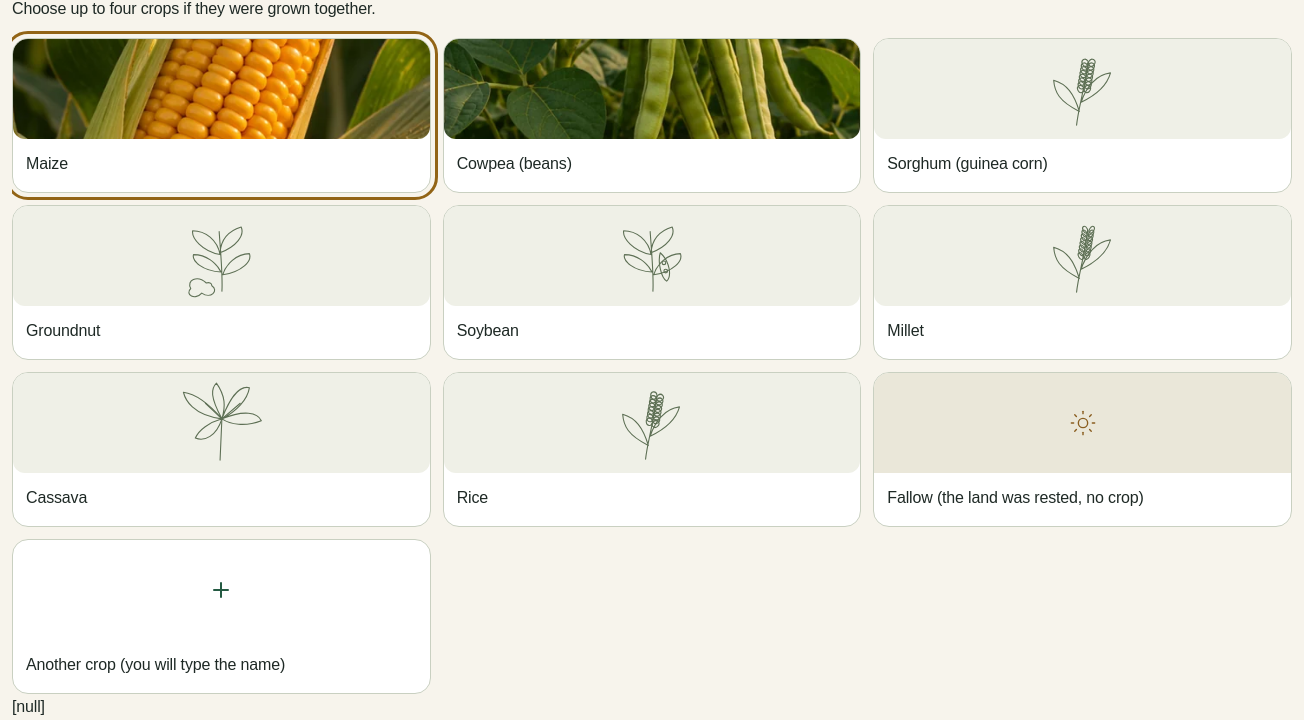
makes fallow exclusive, resets an empty selection to unanswered, and rejects duplicate custom crops
The image size is (1304, 720).
Earlier steps of the test are not shown.
Later steps or results of the test are not shown.
(page scrolled)
expect the text named "Saved answers" reads "[null]": met, box [12, 698, 45, 715]
Step 1. Click the button "Maize" → (221,115), box [12, 38, 431, 193]
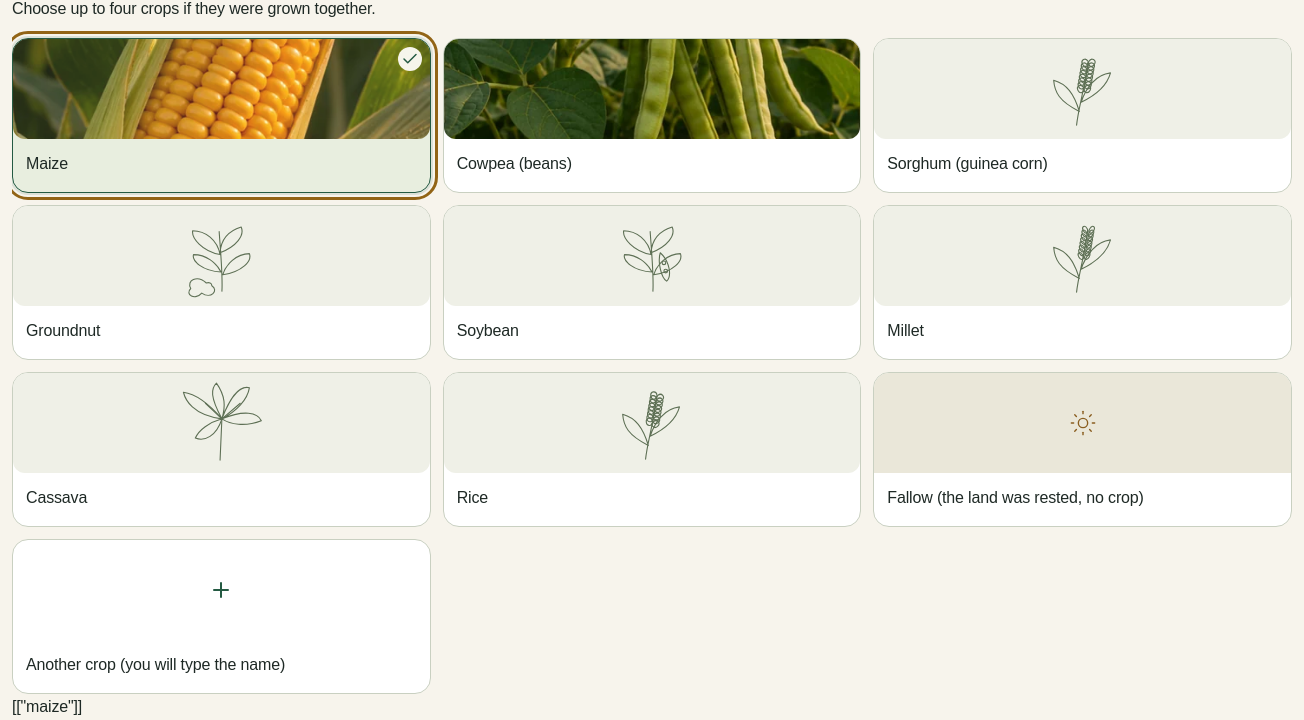
Step 2. Click the button "Another crop (you will type the name)" → (221,616), box [12, 539, 431, 694]
(page scrolled)
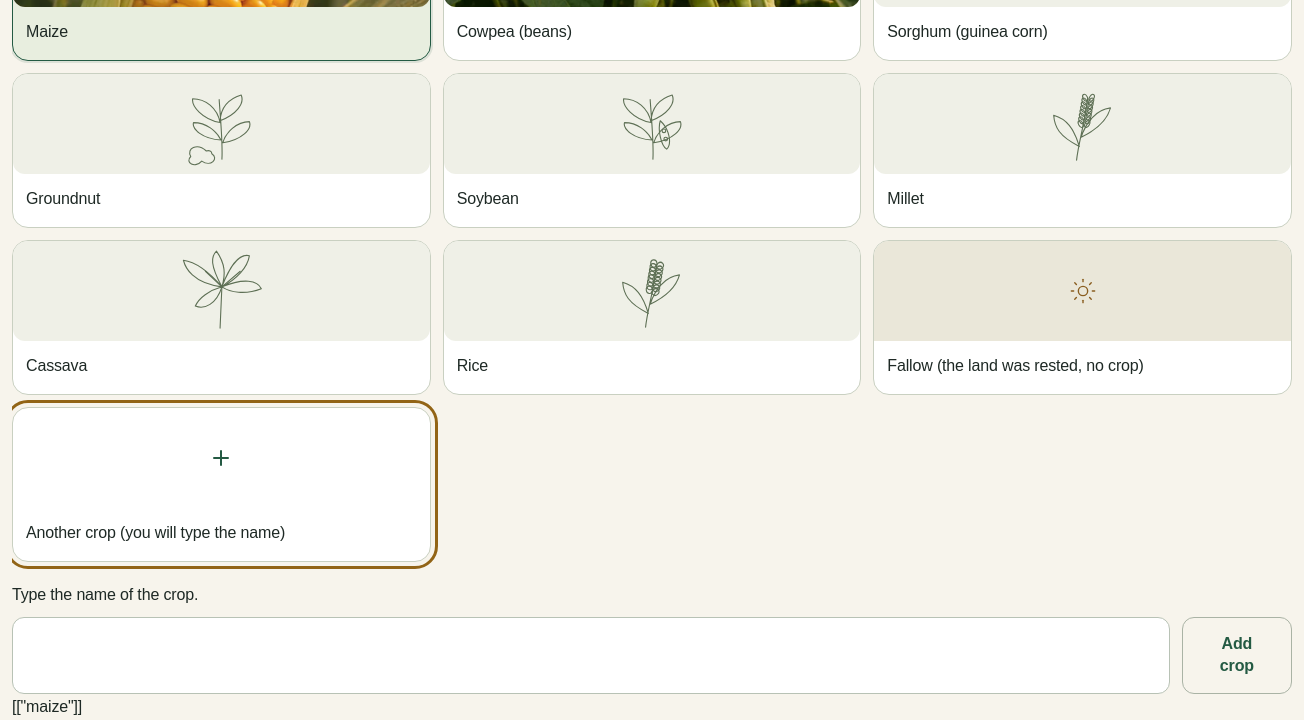
Step 3. Type "MAIZE" into the field labelled "Type the name of the crop." → (591,656), box [12, 617, 1170, 694]
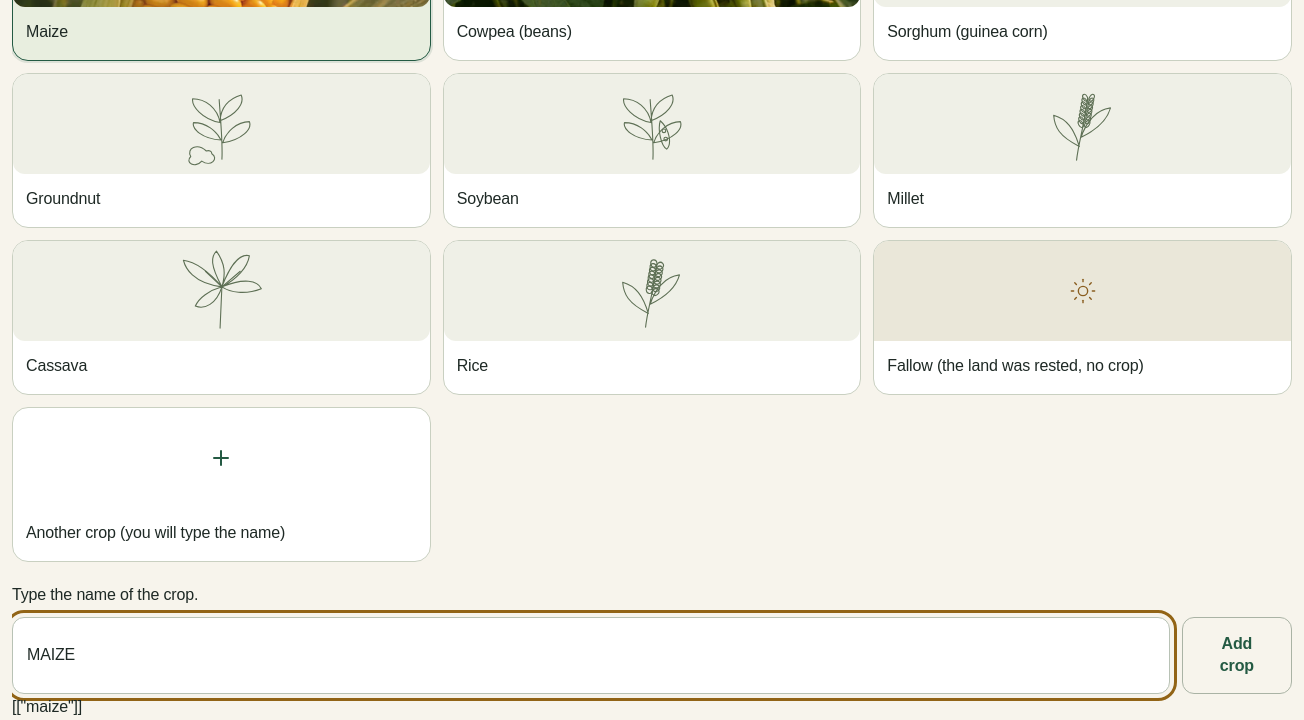
Step 4. Click the button "Add crop" → (1237,656), box [1182, 617, 1292, 694]
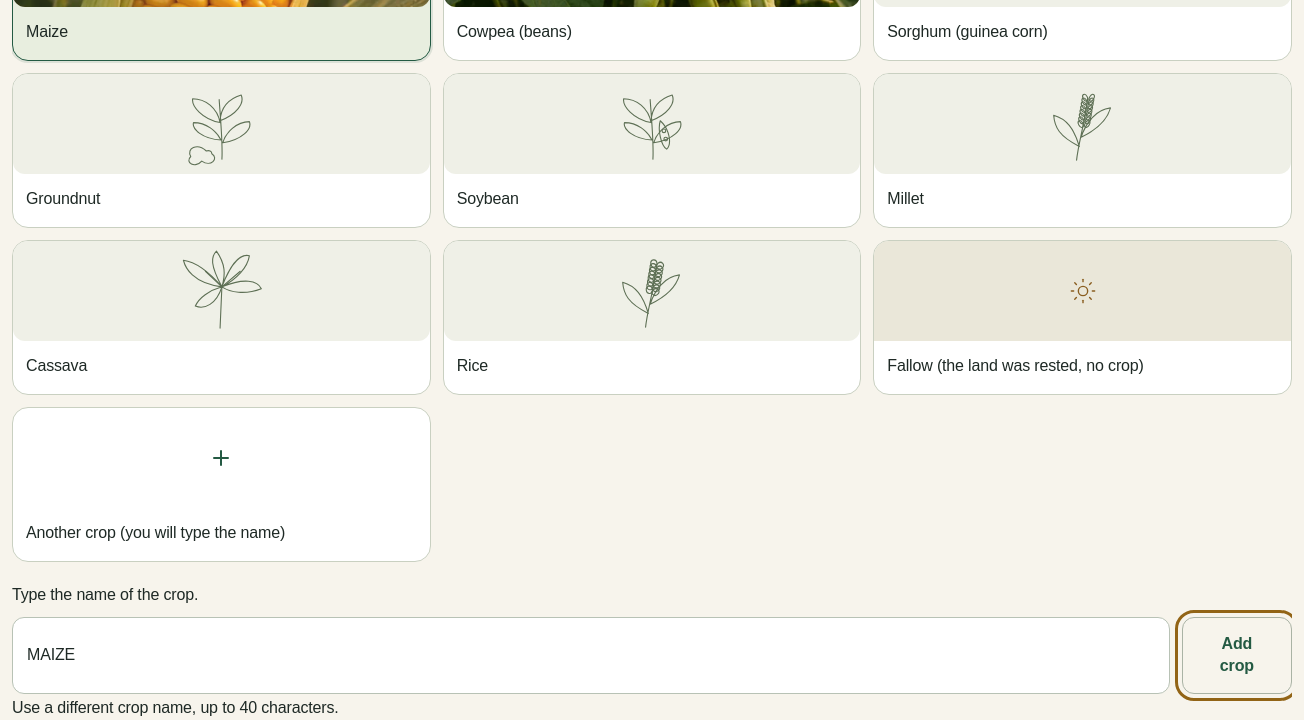
expect the message "Use a different crop name, up to 40 characters." is shown: met, box [12, 699, 339, 716]
Step 5. Replace the text in the field labelled "Type the name of the crop." with "Local leaf" → (591,656), box [12, 617, 1170, 694]
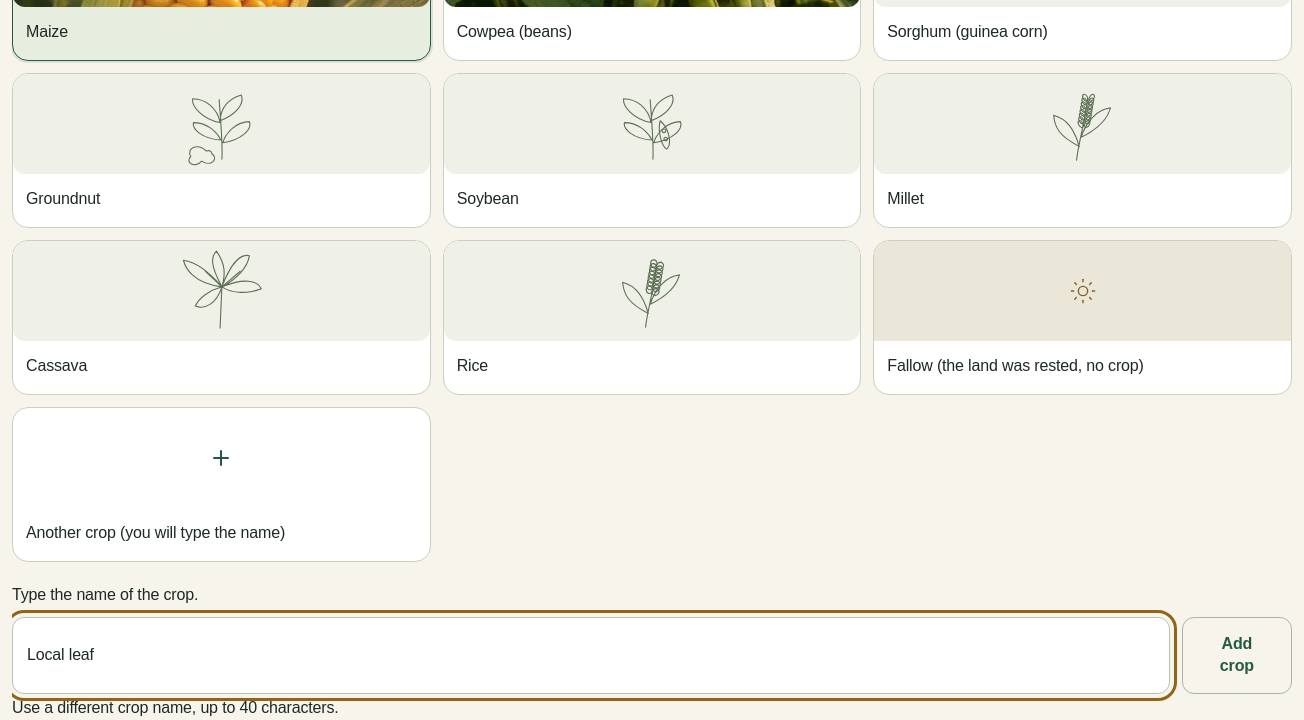
Step 6. Click the button "Add crop" → (1237,656), box [1182, 617, 1292, 694]
(page scrolled)
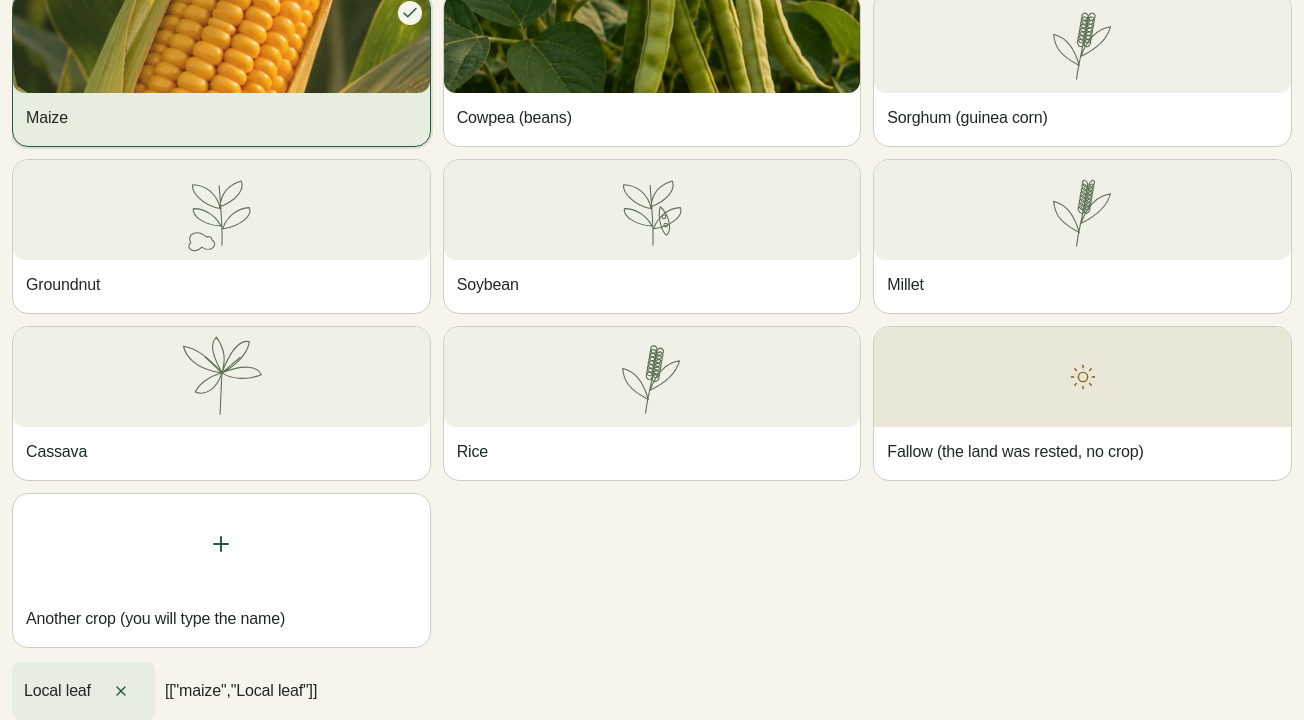
expect the text named "Saved answers" reads "[ [\"maize\",\"Local leaf\"]]": met, box [165, 682, 317, 698]
